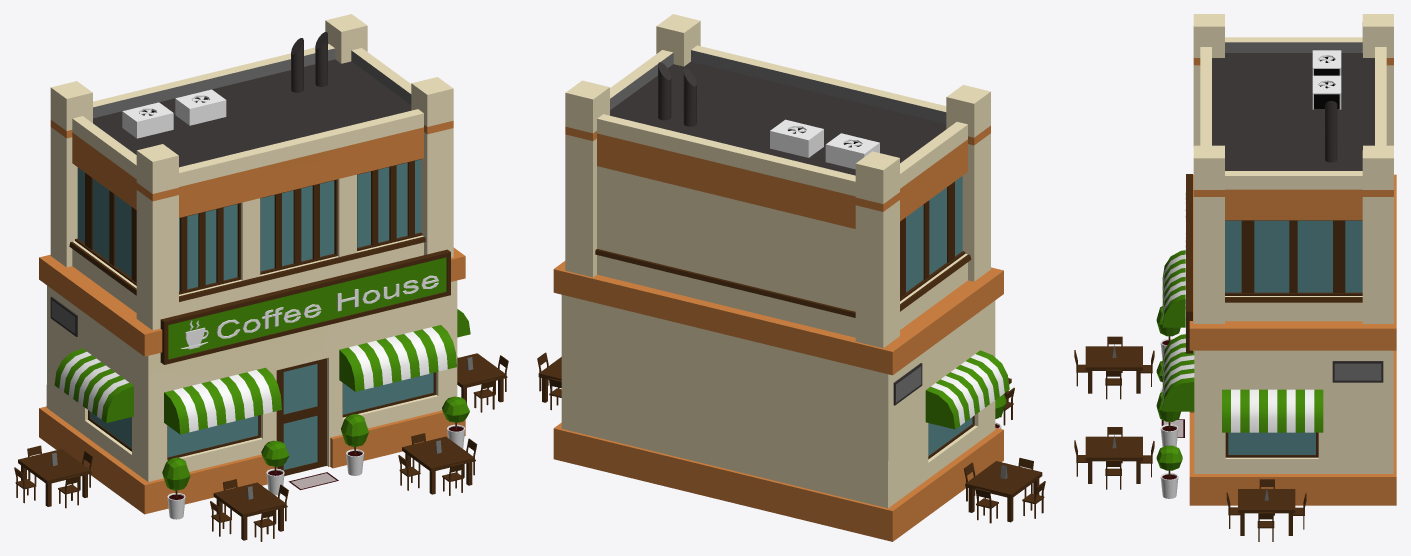
Rendered from coffee_house.gltf.
3 views of the same model, side by side, from view 1: azimuth 30°, elevation 25°; view 2: azimuth 150°, elevation 25°; view 3: azimuth 270°, elevation 25° (orthographic). The views are drawn at different scales.
Visible parts, largest first — view 1: Box001; view 2: Box001; view 3: Box001.
Boxes of the visible parts, box(x1,y1,x2,y2) form: Box001: box(14, 14, 508, 541); Box001: box(537, 14, 1045, 541); Box001: box(1074, 14, 1396, 541).
Size of the model in its own units: 86.87 by 63.5 by 51.37.
